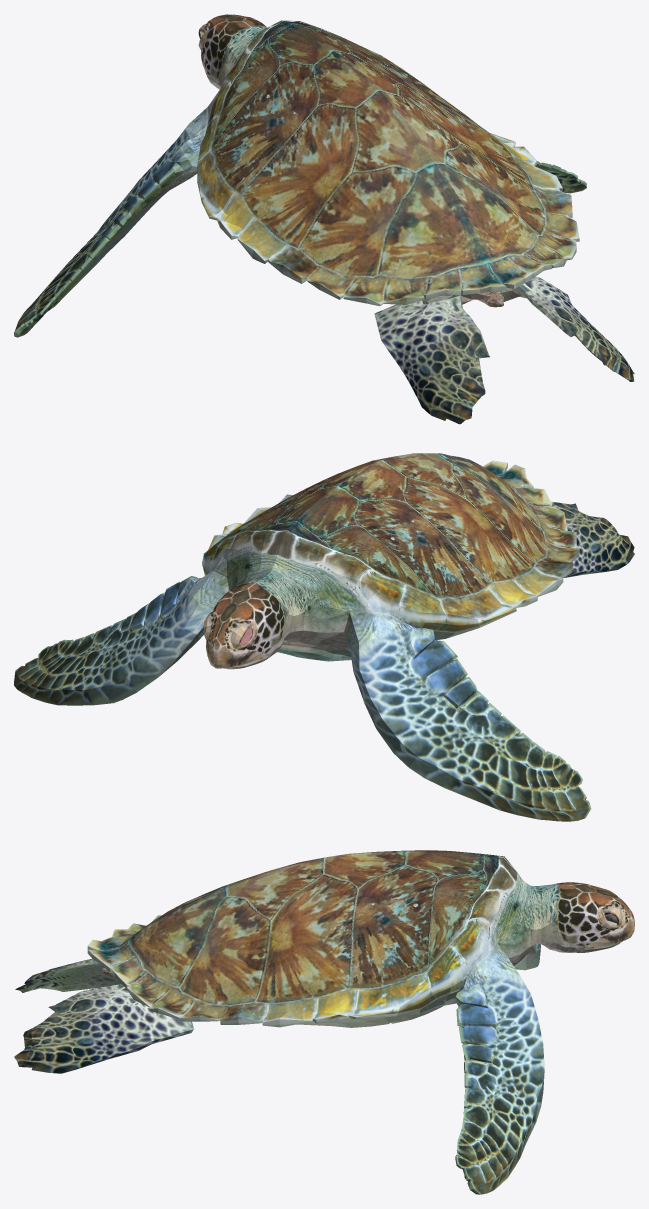
The model's file is frame_10.obj.
3 views of the same model, one above another, from view 1: azimuth 30°, elevation 25°; view 2: azimuth 150°, elevation 25°; view 3: azimuth 270°, elevation 25° (orthographic). The views are drawn at different scales.
Parts seen in each view (by area): view 1: Turtle GEO Turtle; view 2: Turtle GEO Turtle; view 3: Turtle GEO Turtle.
Part boxes in pixels (x1,y1,x2,y2): Turtle GEO Turtle: (14, 14, 634, 424); Turtle GEO Turtle: (14, 453, 634, 821); Turtle GEO Turtle: (14, 850, 634, 1194).
Bounding box in the file's own units: 96.45 × 38.73 × 98.99.
1 material, 1 textured.
